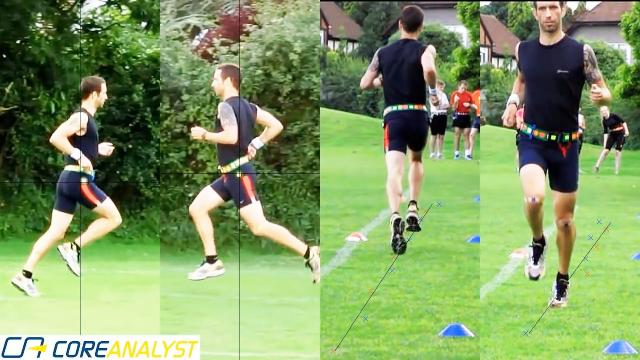berlari: (504, 1, 614, 325), (178, 52, 322, 298), (2, 63, 126, 299), (351, 0, 445, 260)
